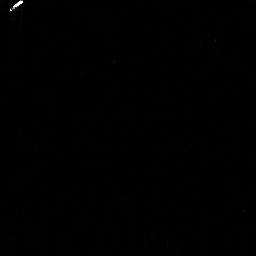ship: (9, 1, 25, 10)
